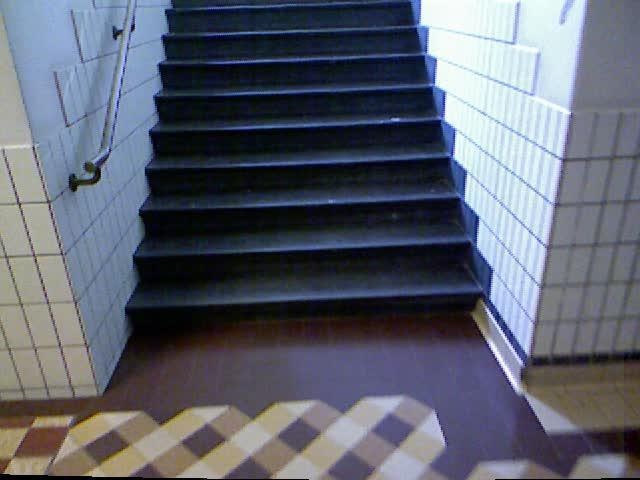Escaleras: (135, 9, 485, 319)
